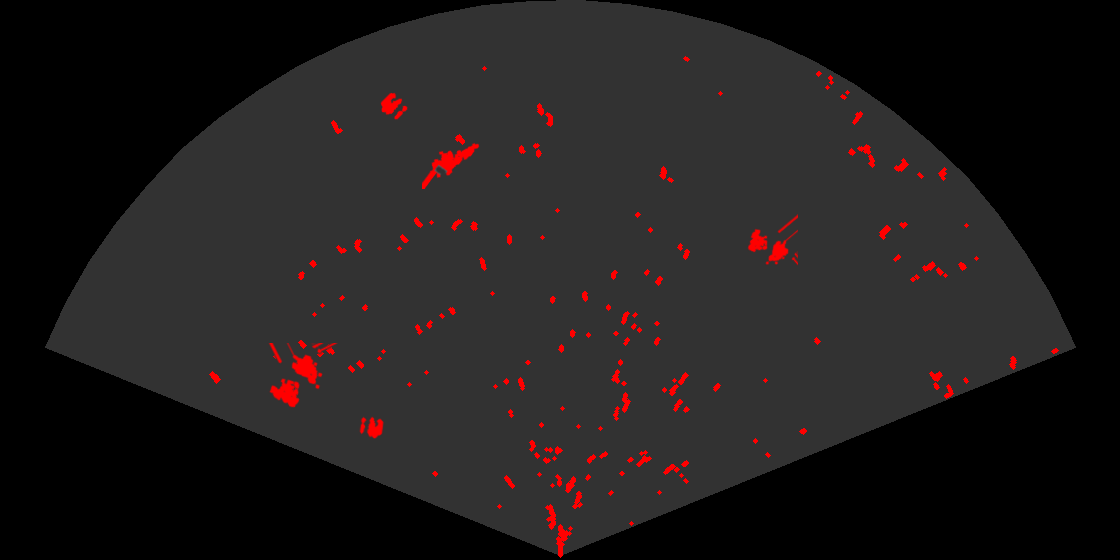ball: (379, 91, 409, 121), (358, 415, 385, 440)
cage: (267, 343, 339, 409), (746, 214, 798, 267)
frogman: (422, 141, 481, 189)
